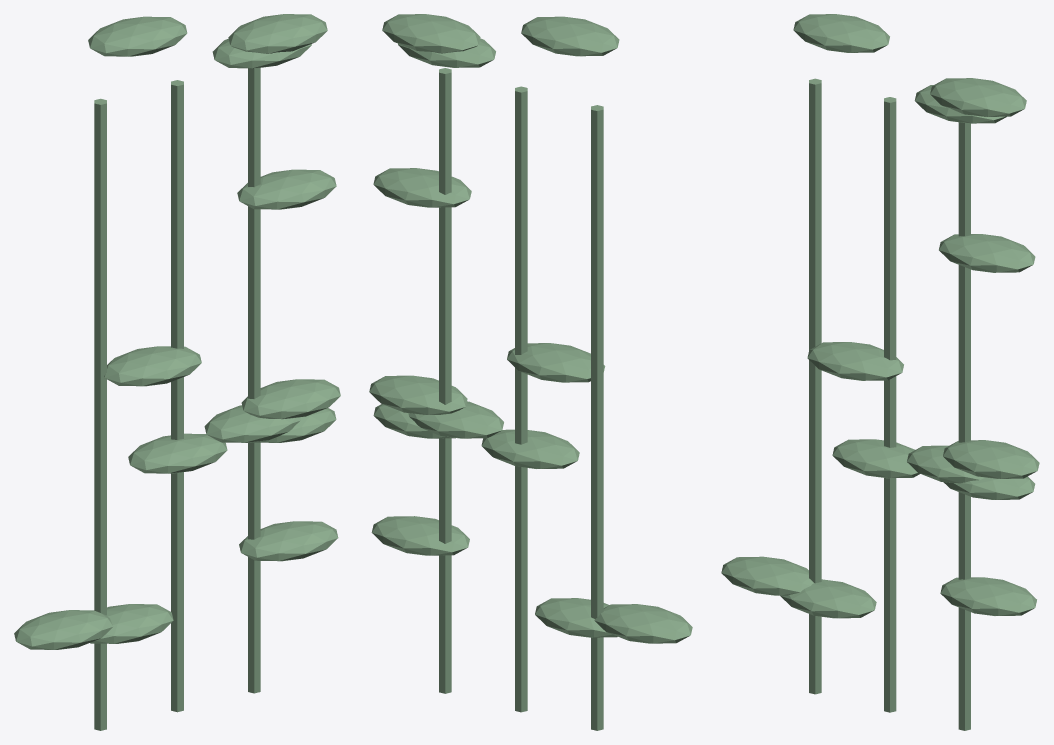
File: ivy_trellis_01.glb
3 renders of one model, left to right at view 1: azimuth 30°, elevation 25°; view 2: azimuth 150°, elevation 25°; view 3: azimuth 330°, elevation 25°, orthographic. The views are drawn at different scales.
Visible parts, largest first — view 1: vine0, vine1, vine2, leaf1, leaf0, leaf3, leaf5, leaf7, leaf11, leaf2, leaf10, leaf4 (+3 smaller); view 2: vine0, vine1, vine2, leaf1, leaf0, leaf5, leaf10, leaf11, leaf7, leaf2, leaf3, leaf4 (+3 smaller); view 3: vine1, vine0, vine2, leaf1, leaf5, leaf11, leaf7, leaf2, leaf3, leaf0, leaf9, leaf10 (+3 smaller).
Part boxes in pixels (x1,y1,x2,y2): vine0: (94, 98, 106, 730); vine1: (171, 80, 183, 712); vine2: (248, 68, 260, 693); leaf1: (88, 16, 187, 56); leaf0: (14, 610, 113, 649); leaf3: (104, 346, 201, 386); leaf5: (228, 14, 327, 53); leaf7: (237, 169, 336, 209); leaf11: (239, 521, 338, 561); leaf2: (241, 379, 340, 419); leaf10: (128, 433, 227, 473); leaf4: (204, 405, 301, 442); vine0: (591, 105, 603, 730); vine1: (515, 86, 527, 712); vine2: (439, 68, 451, 693); leaf1: (521, 16, 619, 56); leaf0: (594, 604, 692, 643); leaf5: (382, 14, 480, 53); leaf10: (481, 429, 579, 468); leaf11: (371, 516, 469, 555); leaf7: (373, 168, 471, 207); leaf2: (369, 375, 467, 414); leaf3: (507, 343, 605, 382); leaf4: (408, 401, 503, 438); vine1: (884, 97, 896, 712); vine0: (809, 78, 821, 694); vine2: (958, 122, 970, 730); leaf1: (793, 14, 889, 52); leaf5: (930, 78, 1026, 116); leaf11: (940, 577, 1036, 615); leaf7: (939, 234, 1035, 272); leaf2: (943, 440, 1039, 478); leaf3: (807, 342, 903, 380); leaf0: (721, 556, 813, 595); leaf9: (780, 579, 876, 618); leaf10: (832, 439, 919, 478).
Bounding box in the file's own units: 0.7572 × 1.57 × 0.14.
